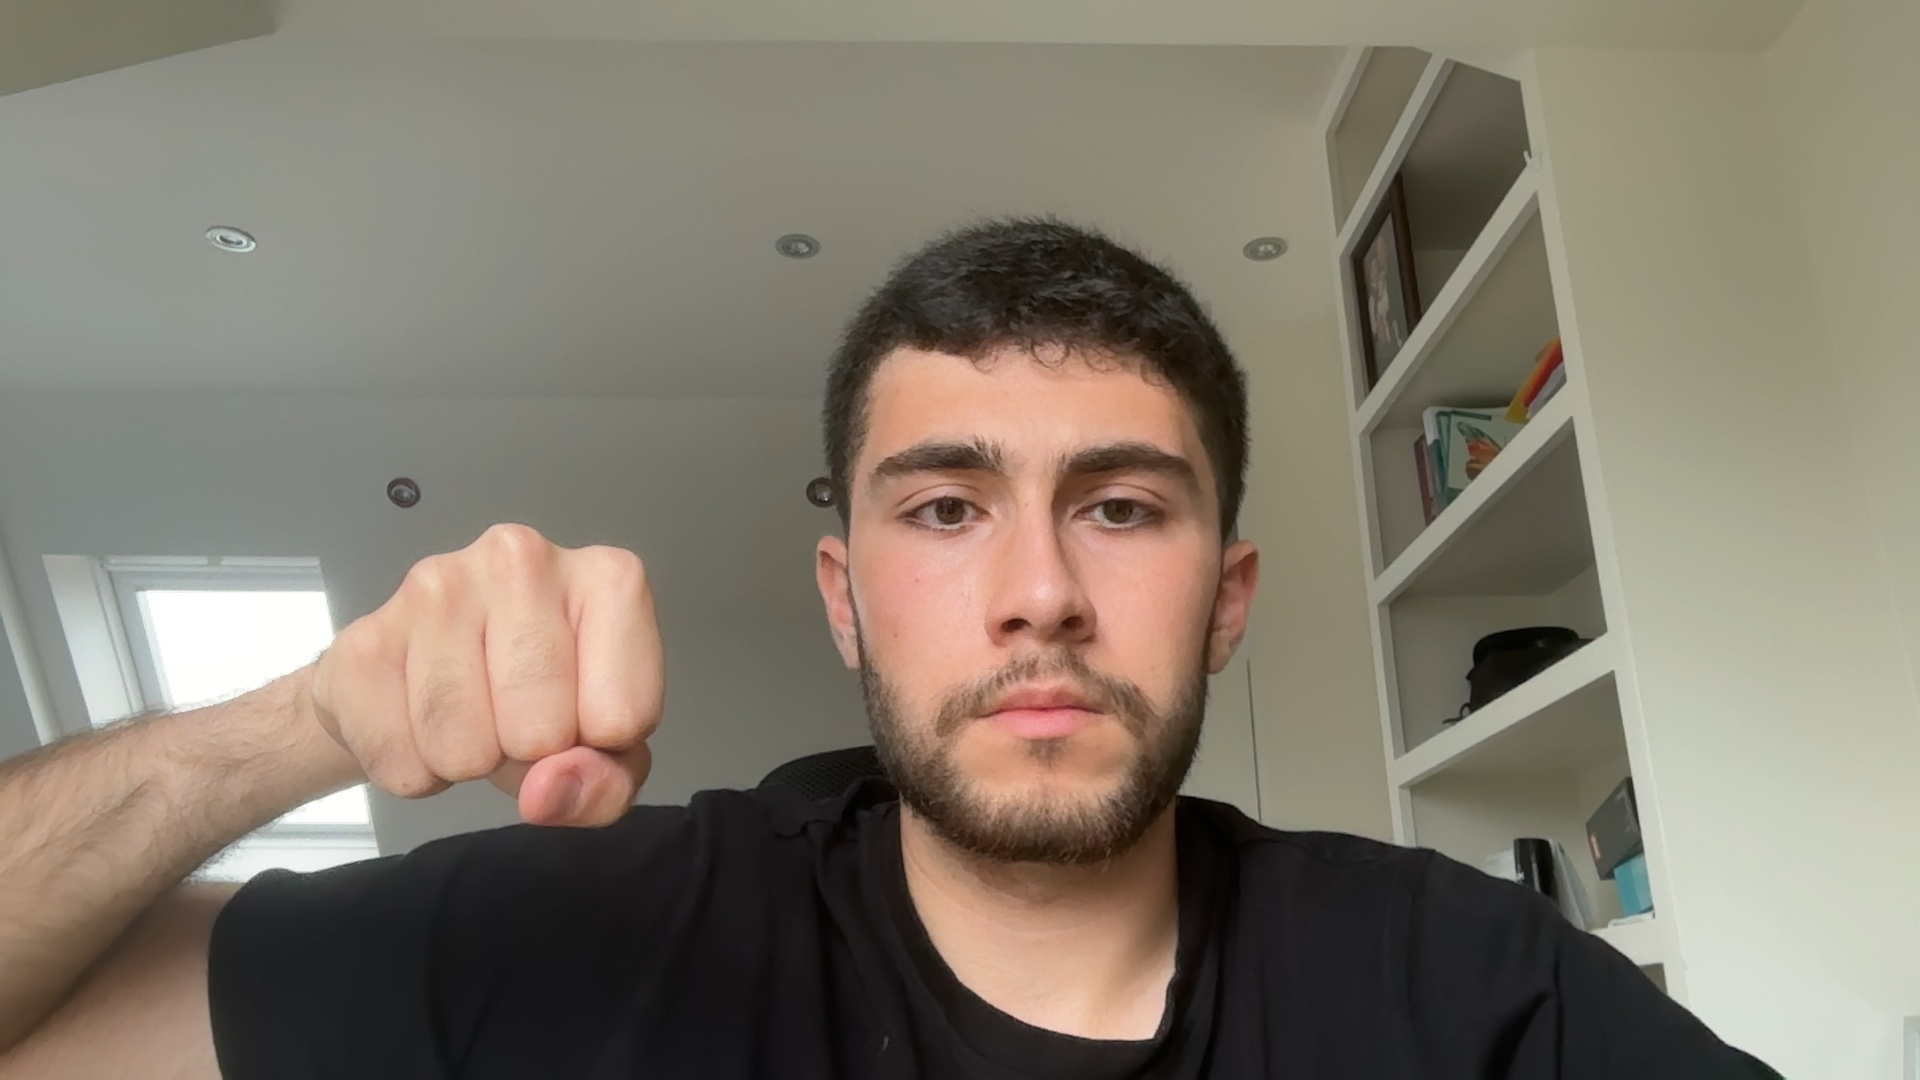yes: (257, 464, 696, 868)
